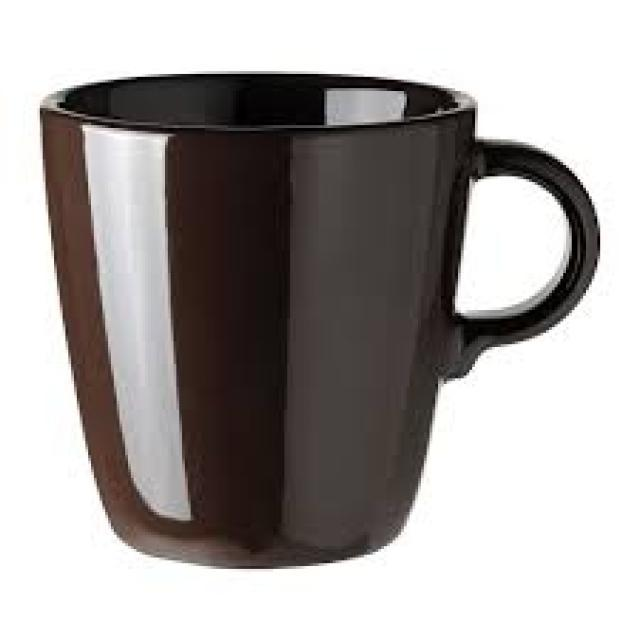taza: (38, 67, 602, 570)
